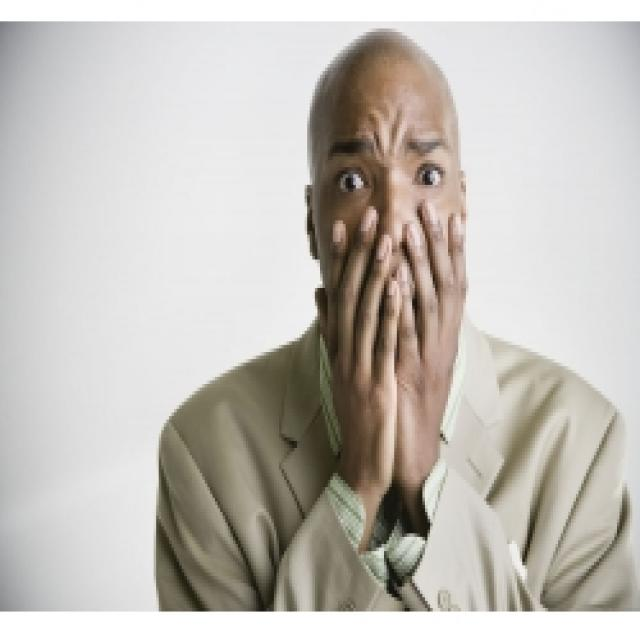nomask: (322, 62, 460, 336)
